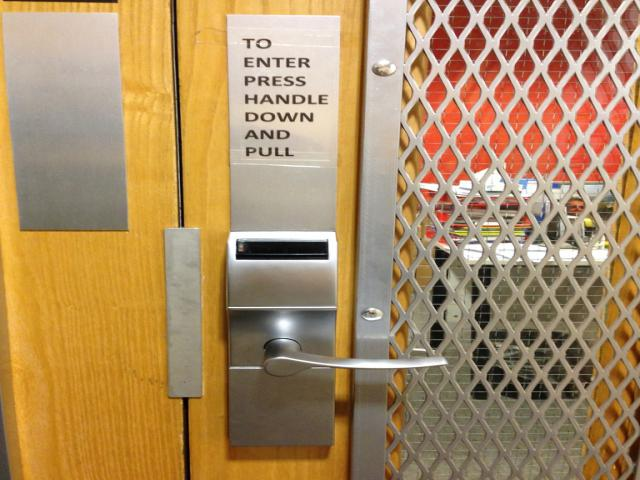Door-handle: (229, 232, 449, 446)
